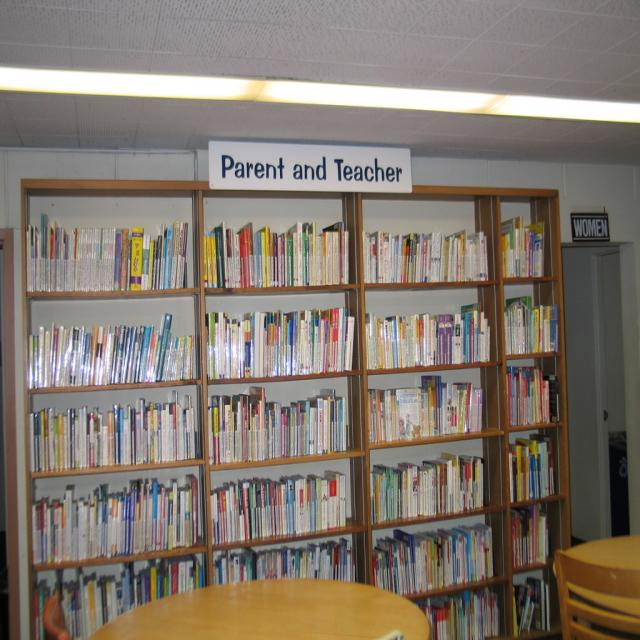chair: (554, 550, 640, 639)
desk: (88, 579, 430, 638)
